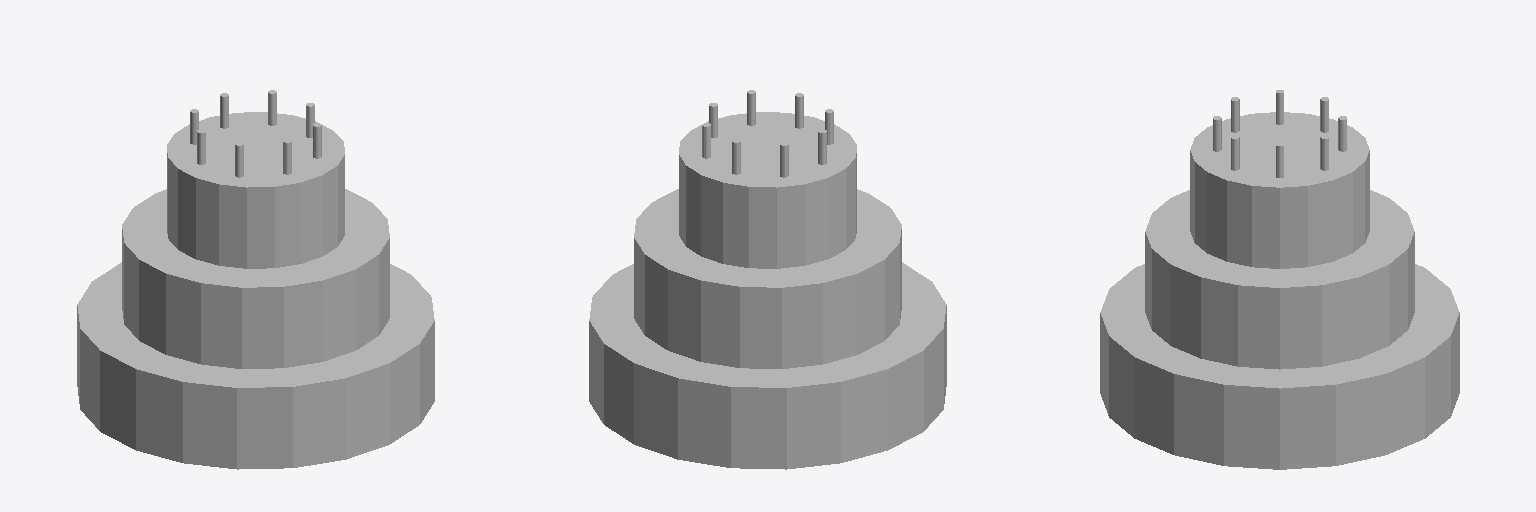
File: cake.obj
3 renders of one model, left to right at view 1: azimuth 30°, elevation 25°; view 2: azimuth 150°, elevation 25°; view 3: azimuth 270°, elevation 25°, orthographic.
Parts seen in each view (by area): view 1: body, candles; view 2: body, candles; view 3: body, candles.
Part boxes in pixels (left/top/right/bottom): body: left=77, top=112, right=434, bottom=469; candles: left=190, top=90, right=321, bottom=177; body: left=589, top=112, right=946, bottom=469; candles: left=702, top=90, right=833, bottom=177; body: left=1100, top=112, right=1459, bottom=469; candles: left=1213, top=90, right=1346, bottom=177.
Size of the model in its own units: 4 by 3.39 by 4.